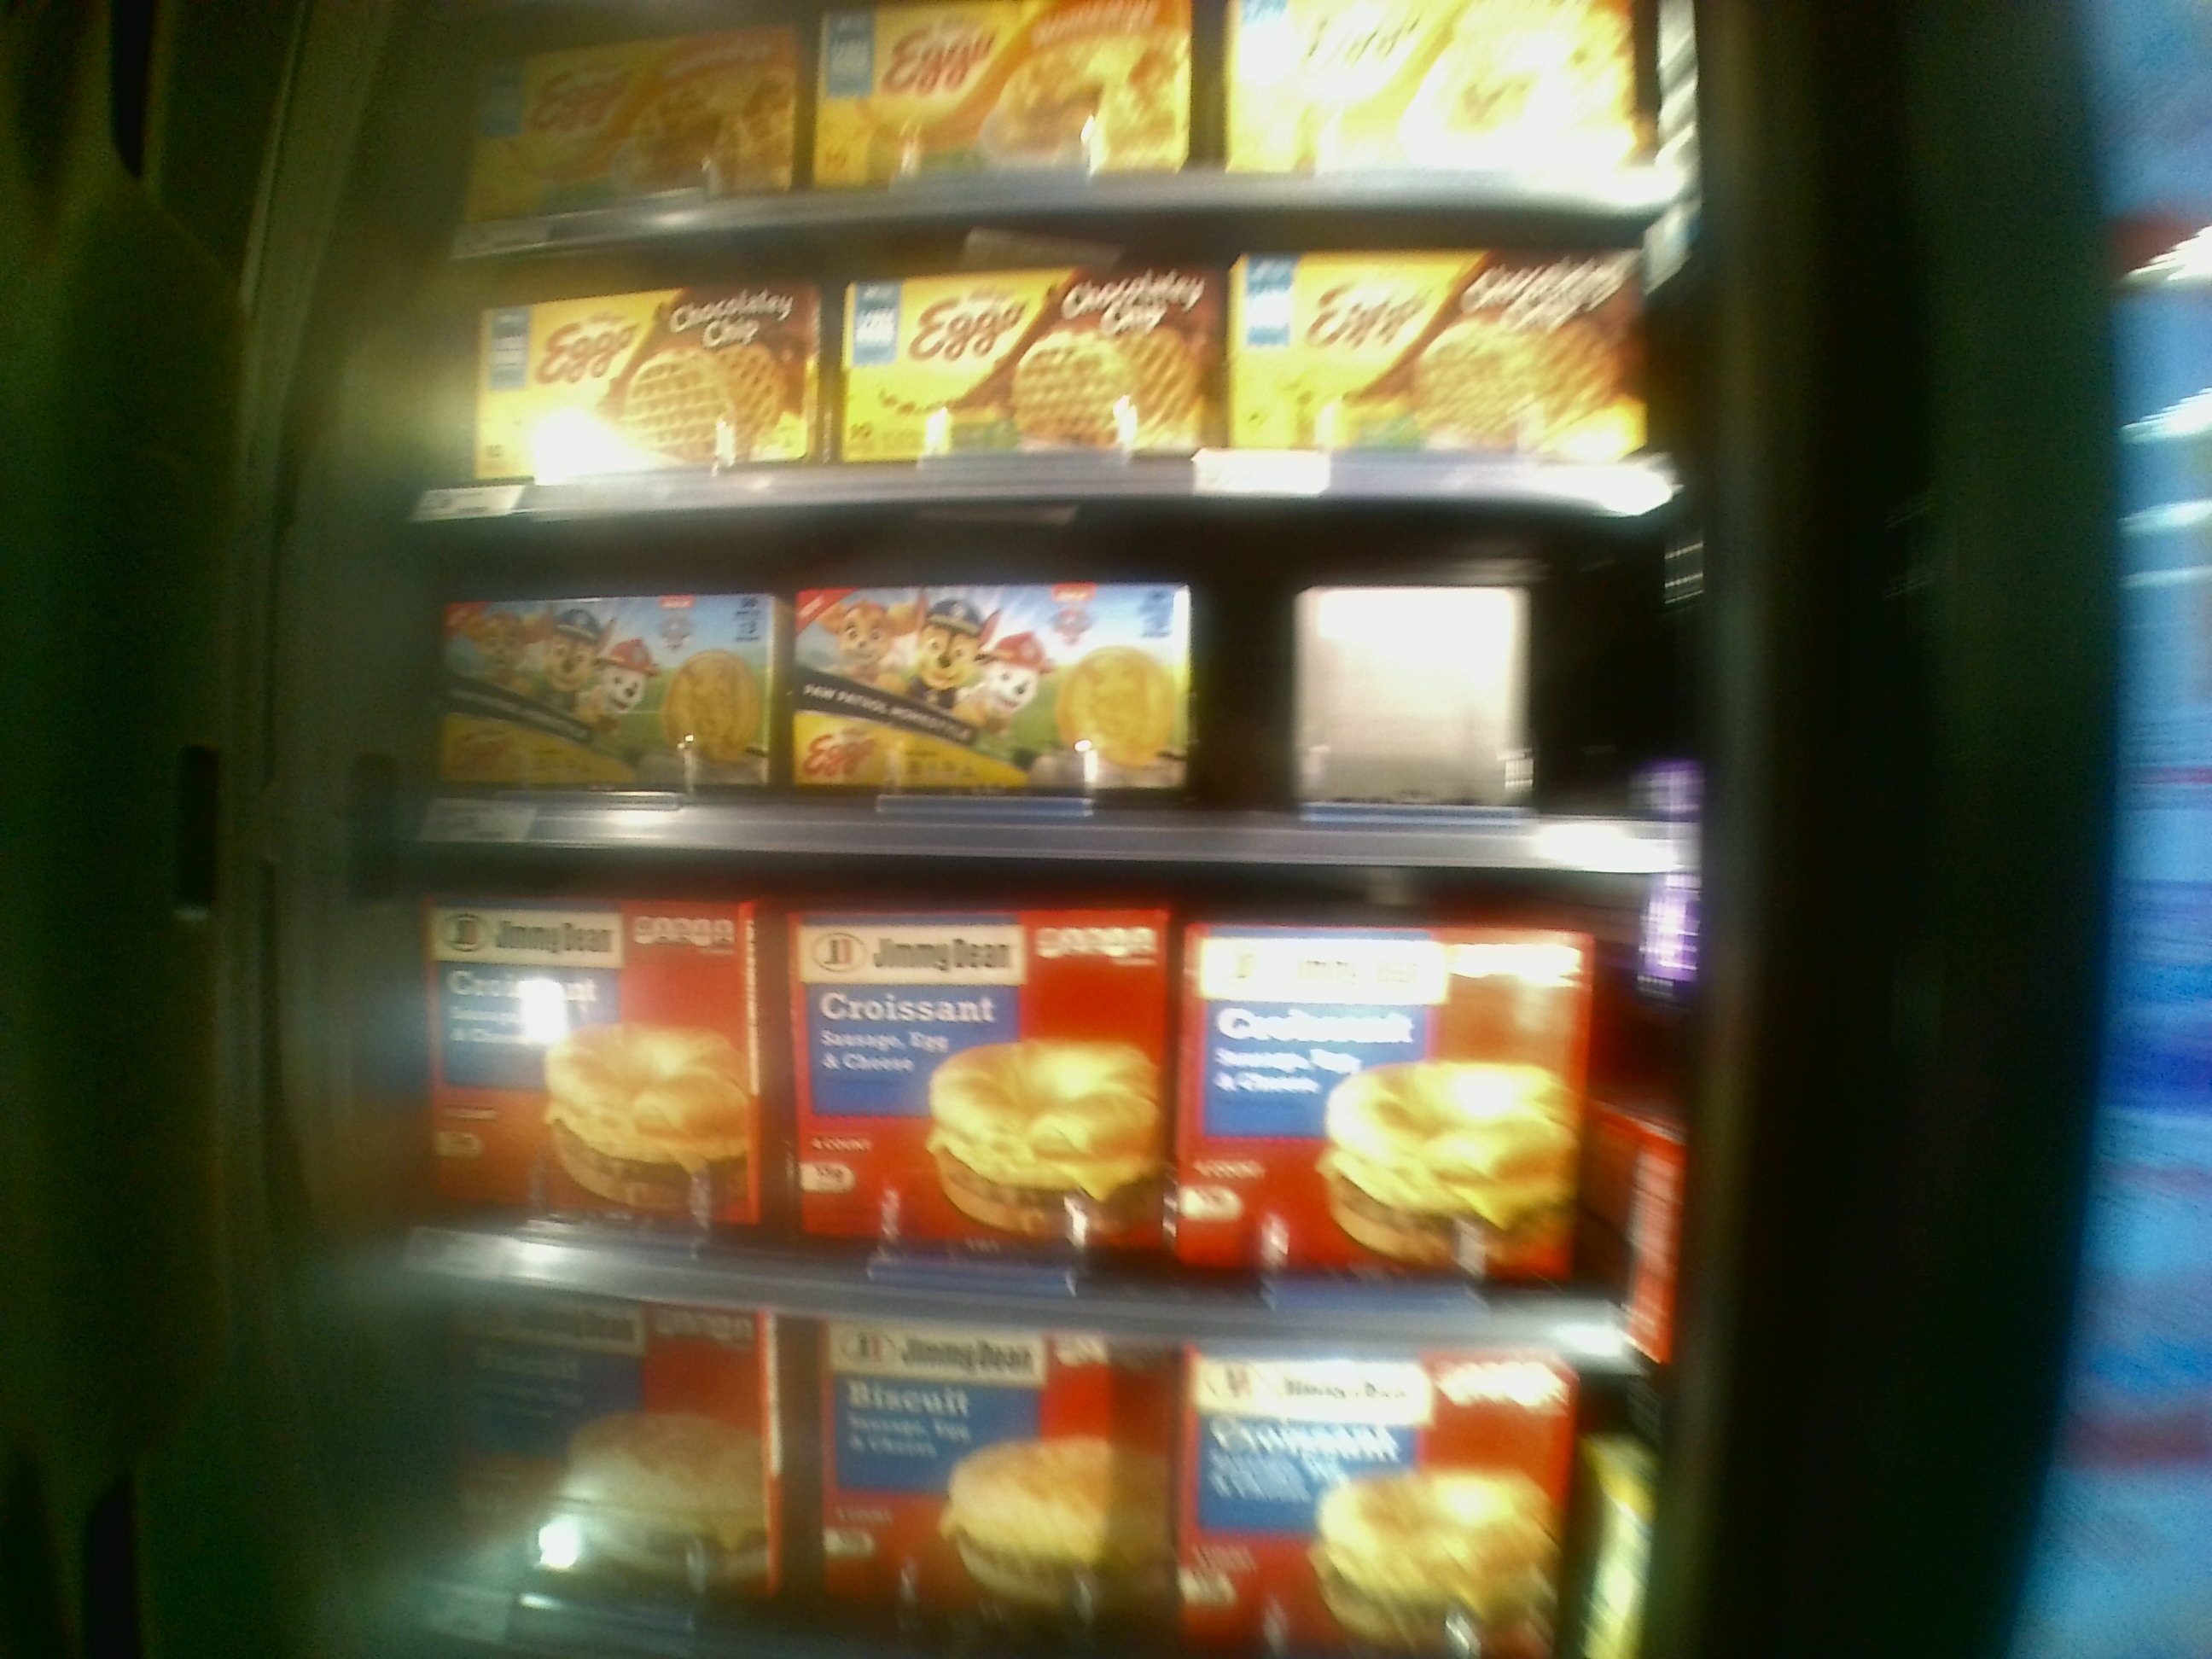shelf: (411, 849, 1662, 1342), (409, 507, 1707, 877)
